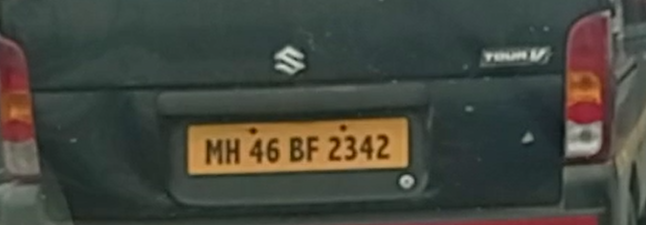MH46BF2342: (184, 115, 411, 176)
